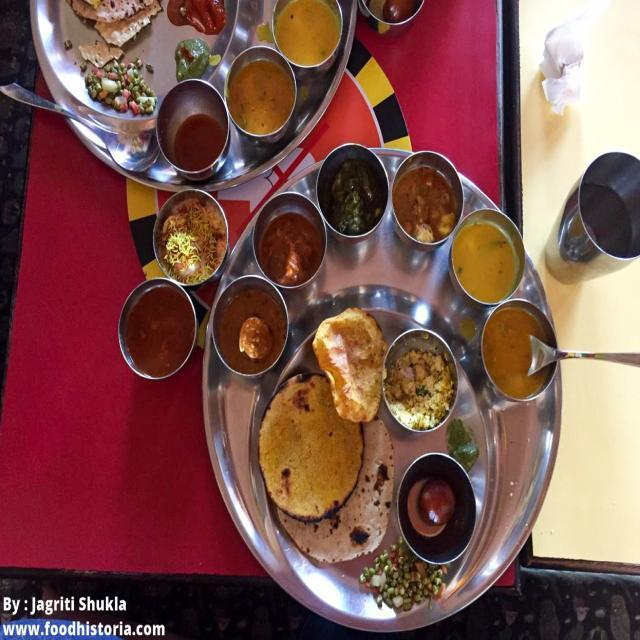dal: (447, 213, 525, 303), (388, 153, 468, 240)
papad: (583, 4, 639, 163)
rice: (579, 11, 640, 153), (383, 329, 461, 433)
roti: (252, 372, 364, 520)
sambar-rasam: (476, 299, 562, 400), (153, 80, 226, 177), (225, 48, 302, 139), (386, 153, 464, 239), (268, 2, 359, 69)
sweet: (207, 274, 295, 383), (401, 455, 477, 552)
veg-fry: (204, 273, 296, 381), (243, 200, 326, 294)
